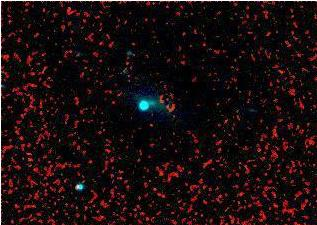star: (62, 173, 92, 203)
